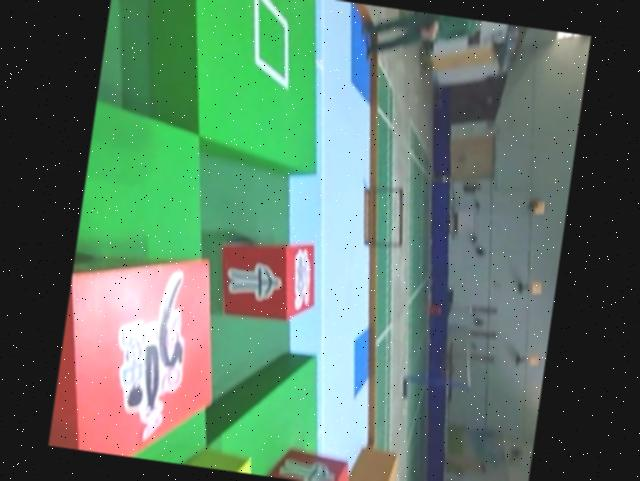R1: (48, 243, 236, 468)
R2 Fake: (216, 229, 328, 327), (262, 441, 361, 481)
